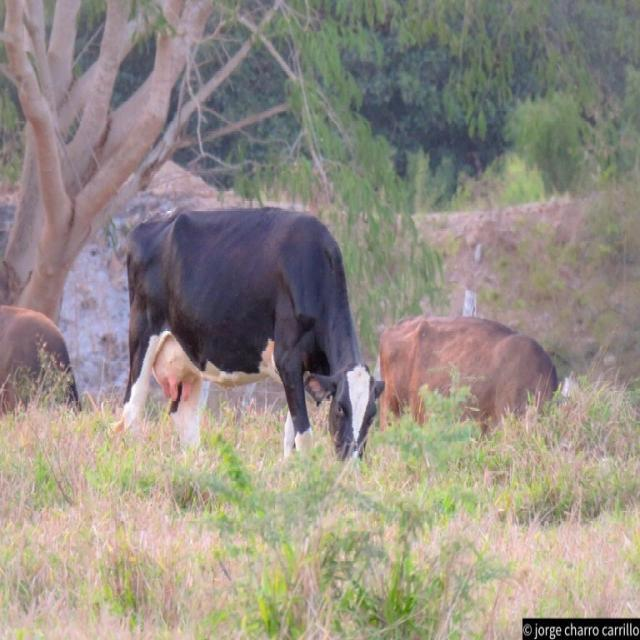cow: (119, 208, 381, 458)
